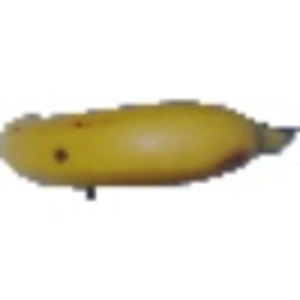banana: (2, 92, 294, 193)
